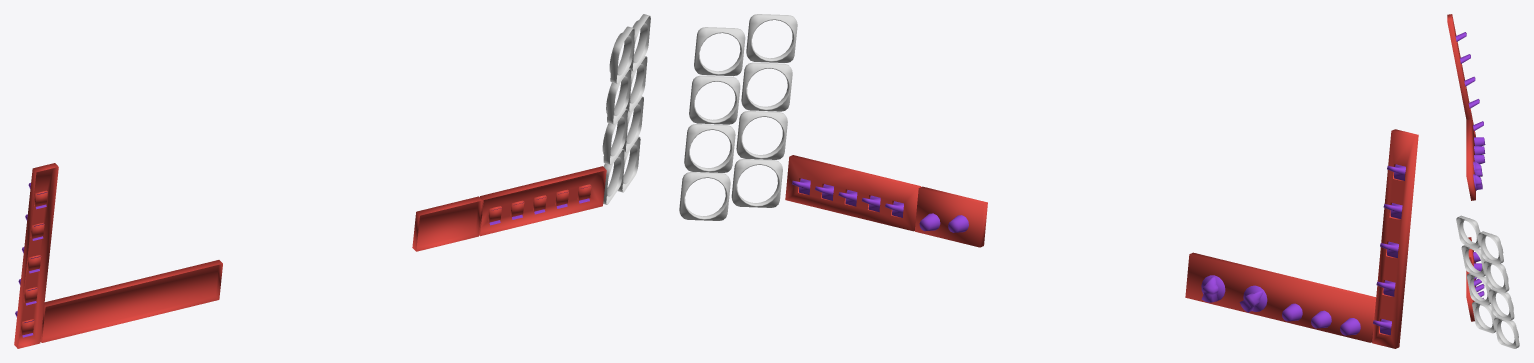
File: PanelsExport.fbx
3 views of the same model, side by side, from view 1: azimuth 30°, elevation 25°; view 2: azimuth 150°, elevation 25°; view 3: azimuth 270°, elevation 25° (orthographic). The views are drawn at different scales.
Parts seen in each view (by area): view 1: LeftPanel.003, LeftPanel.004, CLock.007, CLock.003, CLock.005, CLock.008, CLock.001, CLock.002, CLock.006, CLock.004; view 2: LeftPanel.003, LeftPanel.004, CLock.005, CLock.006, CLock.002, CLock.007, CLock.003, CLock.004, CLock.001, CLock.008; view 3: LeftPanel.003, LeftPanel.004, CLock.008, CLock.006, CLock.002, CLock.004, CLock.007, CLock.001, CLock.005, CLock.003.
Boxes of the visible parts, x1=… form: LeftPanel.003: x1=14, y1=163, x2=222, y2=348; LeftPanel.004: x1=412, y1=166, x2=606, y2=251; CLock.007: x1=609, y1=26, x2=634, y2=83; CLock.003: x1=602, y1=108, x2=627, y2=164; CLock.005: x1=606, y1=68, x2=631, y2=124; CLock.008: x1=629, y1=14, x2=650, y2=71; CLock.001: x1=603, y1=149, x2=624, y2=204; CLock.002: x1=617, y1=136, x2=640, y2=192; CLock.006: x1=626, y1=56, x2=647, y2=111; CLock.004: x1=622, y1=96, x2=643, y2=152; LeftPanel.003: x1=1185, y1=129, x2=1418, y2=348; LeftPanel.004: x1=785, y1=155, x2=987, y2=247; CLock.005: x1=741, y1=62, x2=792, y2=111; CLock.006: x1=689, y1=75, x2=740, y2=124; CLock.002: x1=679, y1=172, x2=730, y2=220; CLock.007: x1=746, y1=14, x2=797, y2=62; CLock.003: x1=736, y1=111, x2=787, y2=159; CLock.004: x1=684, y1=124, x2=735, y2=172; CLock.001: x1=731, y1=159, x2=782, y2=207; CLock.008: x1=694, y1=27, x2=745, y2=76; LeftPanel.003: x1=1447, y1=14, x2=1485, y2=200; LeftPanel.004: x1=1466, y1=237, x2=1484, y2=321; CLock.008: x1=1478, y1=231, x2=1503, y2=264; CLock.006: x1=1483, y1=260, x2=1509, y2=292; CLock.002: x1=1494, y1=317, x2=1519, y2=348; CLock.004: x1=1489, y1=288, x2=1514, y2=320; CLock.007: x1=1456, y1=215, x2=1480, y2=248; CLock.001: x1=1472, y1=301, x2=1495, y2=333; CLock.005: x1=1461, y1=245, x2=1485, y2=276; CLock.003: x1=1467, y1=273, x2=1490, y2=305.
Bounding box in the file's own units: 70.12 × 20.94 × 10.39.
